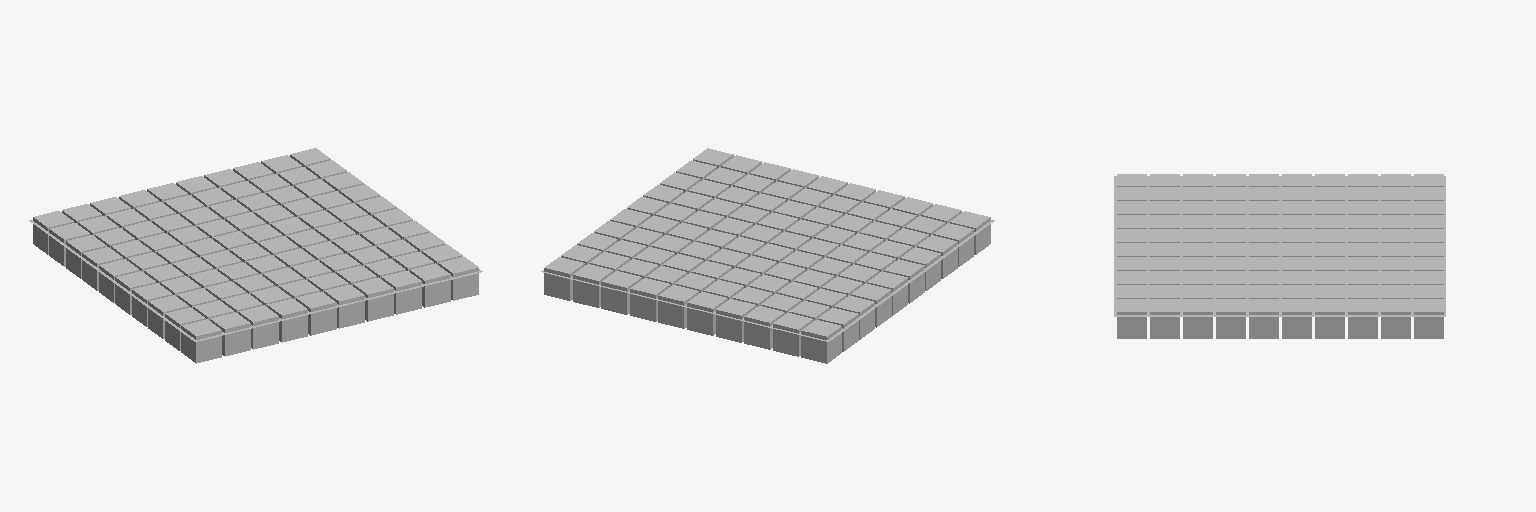
Rendered from tutorial_ground_1.obj.
3 views of the same model, side by side, from view 1: azimuth 30°, elevation 25°; view 2: azimuth 150°, elevation 25°; view 3: azimuth 270°, elevation 25° (orthographic).
Visible parts, largest first — view 1: 立方体, 平面; view 2: 立方体, 平面; view 3: 立方体, 平面.
Boxes of the visible parts, x1=… form: 立方体: x1=33, y1=148, x2=478, y2=363; 平面: x1=29, y1=220, x2=482, y2=341; 立方体: x1=544, y1=148, x2=990, y2=363; 平面: x1=541, y1=205, x2=994, y2=341; 立方体: x1=1117, y1=174, x2=1443, y2=338; 平面: x1=1114, y1=176, x2=1445, y2=316.
Bounding box in the file's own units: 20 × 1.8 × 20.